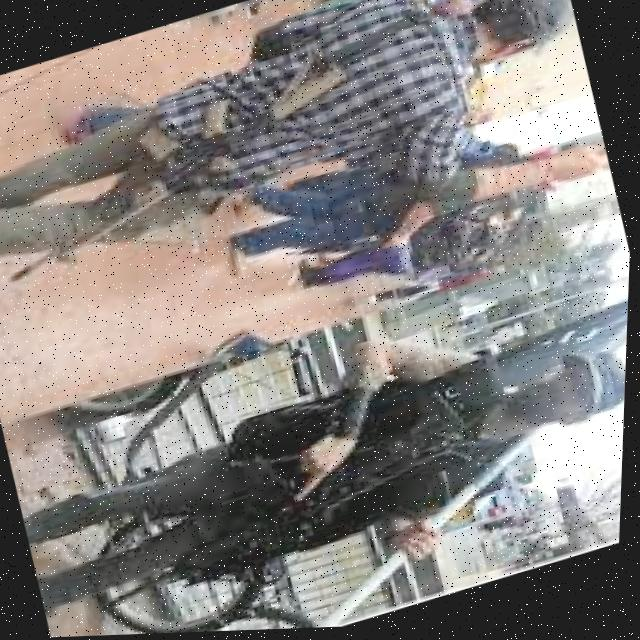firearm: (80, 389, 489, 614), (0, 41, 378, 283)
